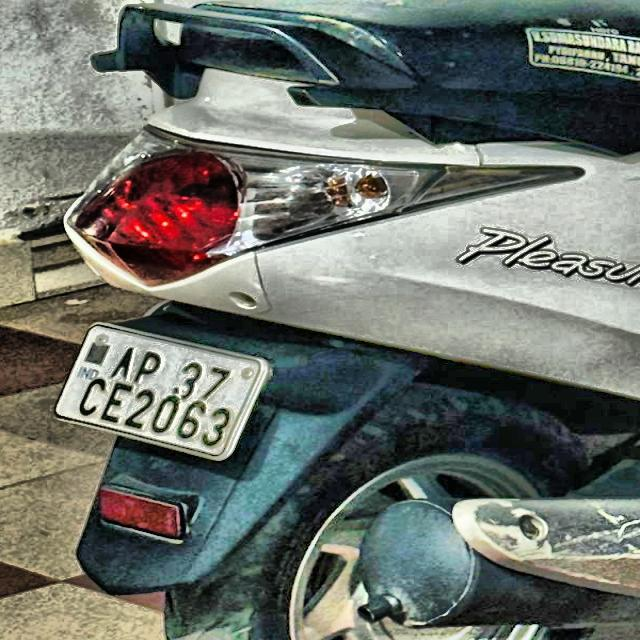license-plate: (50, 320, 272, 460)
